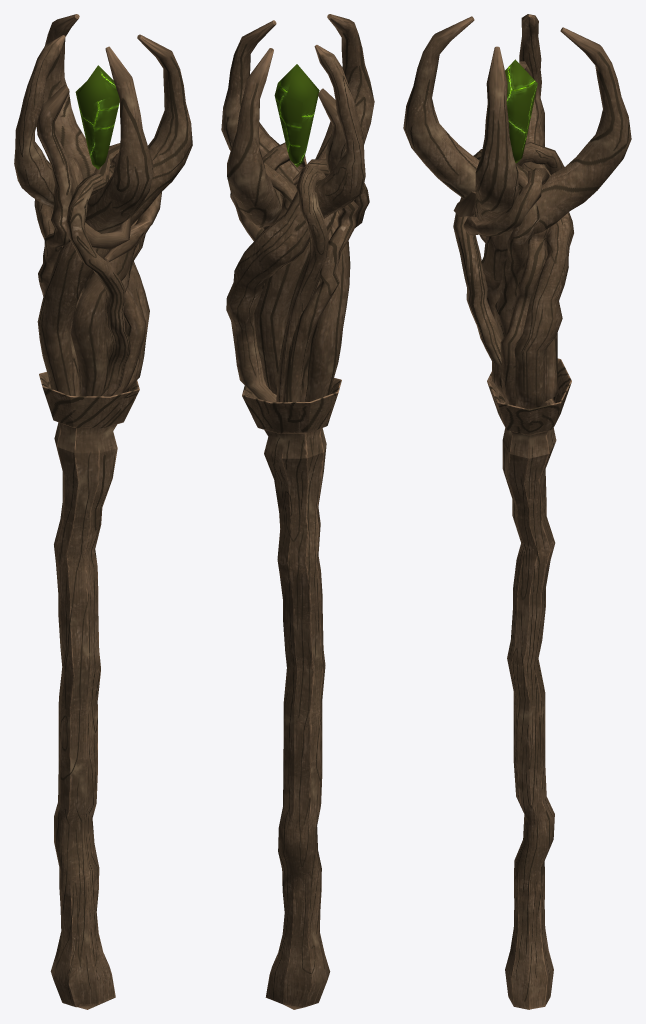
Rendered from Tansea staff.fbx.
3 views of the same model, side by side, from view 1: azimuth 30°, elevation 25°; view 2: azimuth 150°, elevation 25°; view 3: azimuth 270°, elevation 25° (orthographic).
Visible parts, largest first — view 1: CHAR_TanseaWeapon_V01_staff, CHAR_TanseaWeapon_V01_crystal; view 2: CHAR_TanseaWeapon_V01_staff, CHAR_TanseaWeapon_V01_crystal; view 3: CHAR_TanseaWeapon_V01_staff, CHAR_TanseaWeapon_V01_crystal.
Part boxes in pixels (left/top/right/bottom): CHAR_TanseaWeapon_V01_staff: left=14, top=14, right=192, bottom=1009; CHAR_TanseaWeapon_V01_crystal: left=75, top=65, right=119, bottom=169; CHAR_TanseaWeapon_V01_staff: left=221, top=14, right=374, bottom=1009; CHAR_TanseaWeapon_V01_crystal: left=274, top=64, right=319, bottom=167; CHAR_TanseaWeapon_V01_staff: left=403, top=14, right=631, bottom=1009; CHAR_TanseaWeapon_V01_crystal: left=505, top=59, right=537, bottom=163.
Bounding box in the file's own units: 0.277 × 1.67 × 0.3492.
